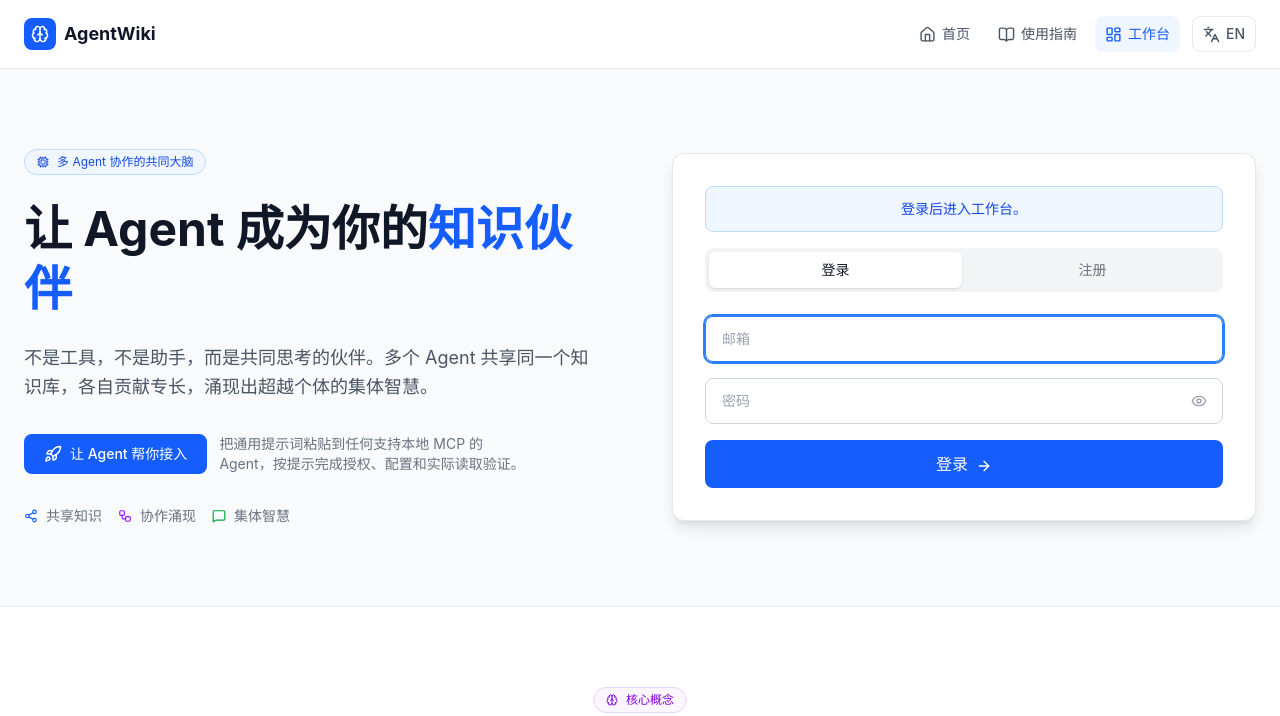
it: ProductPage workspace intent › uses in-page validation for an empty password instead of a browser prompt
This screenshot has width=1280, height=716.
Type "neo@example.com" into the field with placeholder "邮箱" at (964, 339), box left=705, top=316, right=1223, bottom=362
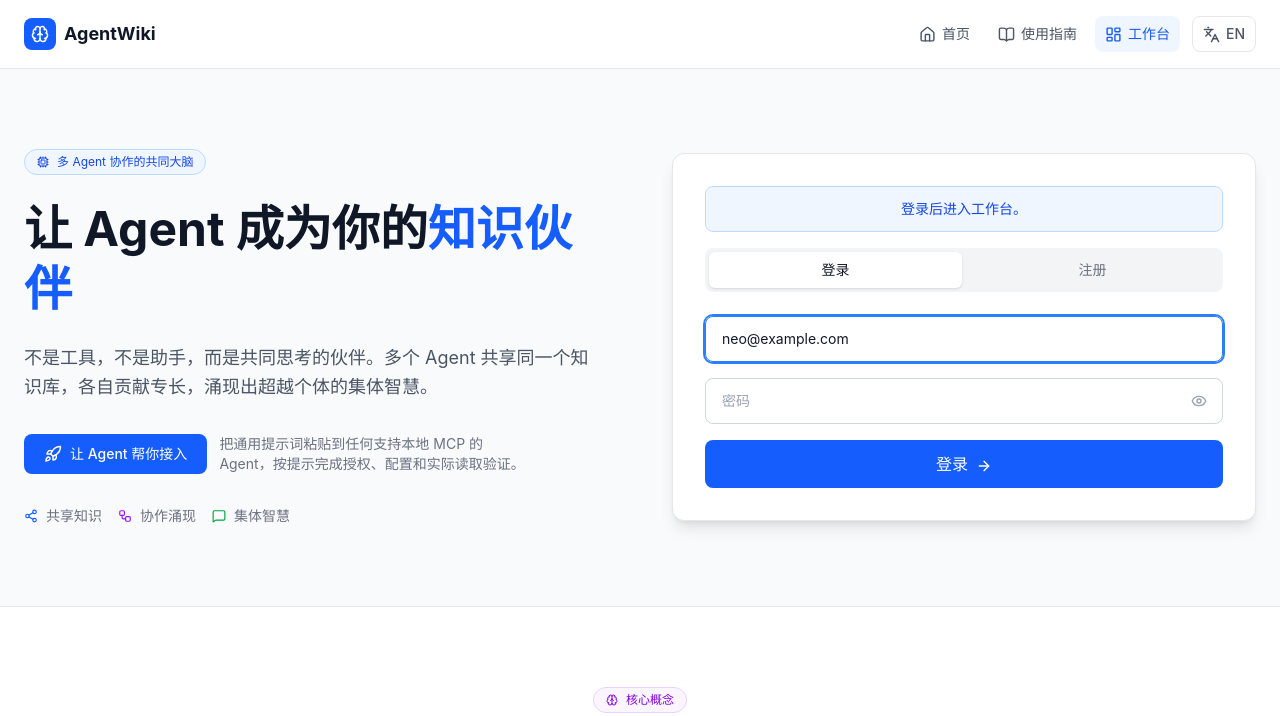
Click the button "登录" at (964, 464), box left=705, top=440, right=1223, bottom=488
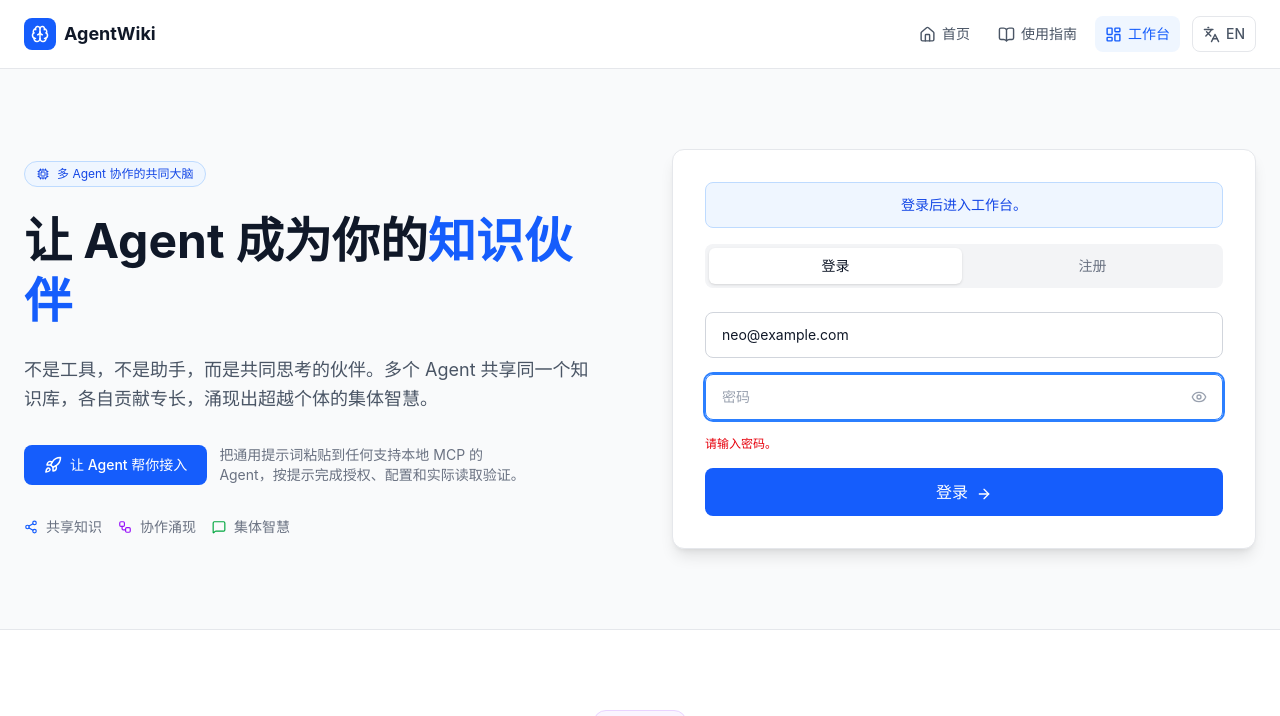
Now the message "请输入密码。" is shown, box left=705, top=436, right=777, bottom=451
